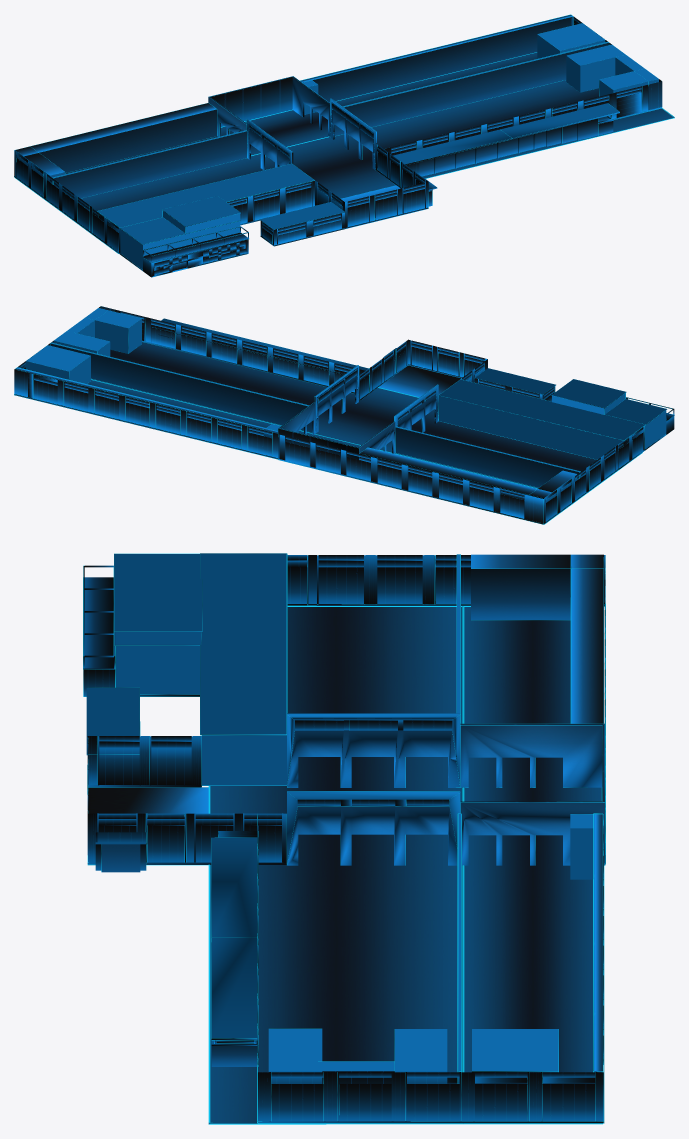
The model's file is join.glb.
3 views of the same model, one above another, from view 1: azimuth 30°, elevation 25°; view 2: azimuth 150°, elevation 25°; view 3: azimuth 270°, elevation 25° (orthographic). The views are drawn at different scales.
Parts seen in each view (by area): view 1: model, line; view 2: model, line; view 3: model, line.
Boxes of the visible parts, x1,y1,x2,y2 form: model: (14, 15, 674, 277); line: (14, 14, 674, 276); model: (14, 306, 674, 524); line: (14, 306, 672, 524); model: (83, 553, 605, 1123); line: (83, 553, 605, 1124).
Bounding box in the file's own units: 310 × 20.76 × 132.
2 materials, 1 textured.
